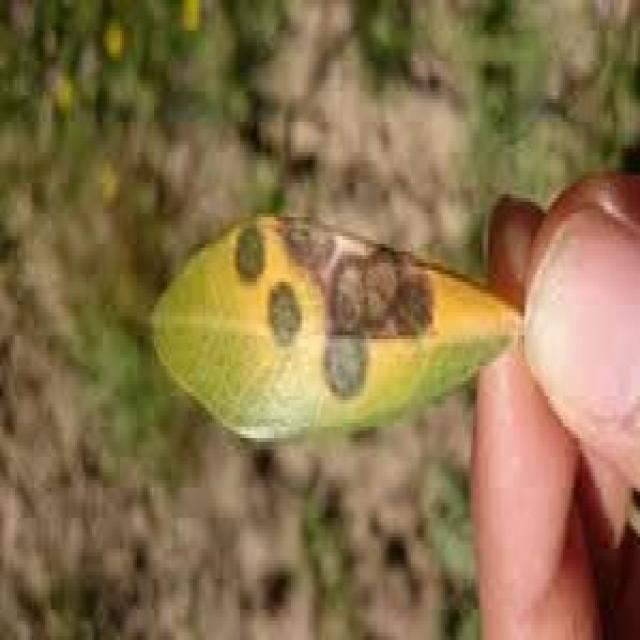Peacock Eye: (154, 215, 522, 440)
